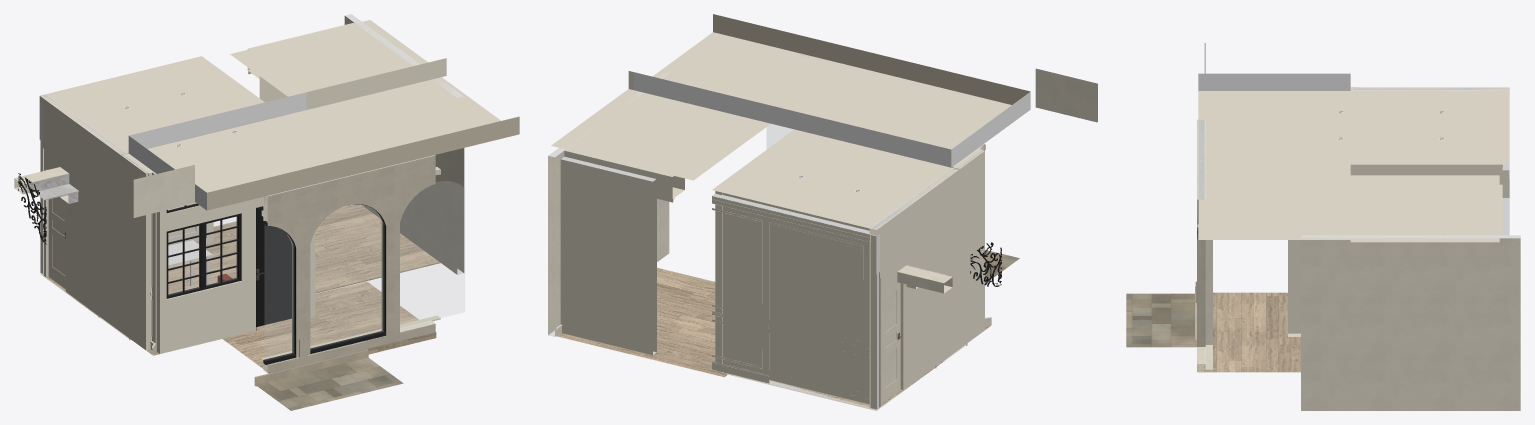
The model's file is office-west-12e27a438340.glb.
3 views of the same model, side by side, from view 1: azimuth 30°, elevation 25°; view 2: azimuth 150°, elevation 25°; view 3: azimuth 270°, elevation 25° (orthographic). The views are drawn at different scales.
Visible parts, largest first — view 1: office-west-look-dbd60ee5c3733ed6, office-west-6a051330000fbca1, office-west-look-c9e78b9ec1bb39cd, office-west-look-2575515a05775d9e, office-west-2575515a05775d9e, office-west-look-c02a36d0521470a9, office-west-a822d30aa9e2c55a, office-west-look-5cbcc744e6f960f3, office-west-look-3b0077416469e01b, office-west-look-6a1144f4e43410bb, office-west-look-c374268555806af8, office-west-dbd60ee5c3733ed6 (+17 smaller); view 2: office-west-look-dbd60ee5c3733ed6, office-west-fca9ba73dd7496f7, office-west-6a051330000fbca1, office-west-look-19647d6da46c2b80, office-west-2575515a05775d9e, office-west-look-2575515a05775d9e, office-west-look-3b0077416469e01b, office-west-19647d6da46c2b80, office-west-look-6a1144f4e43410bb, office-west-look-34525a54e63b733b, office-west-dbd60ee5c3733ed6, office-west-80d276f58a4dc5cb (+9 smaller); view 3: office-west-look-6a1144f4e43410bb, office-west-look-dbd60ee5c3733ed6, office-west-2575515a05775d9e, office-west-look-2575515a05775d9e, office-west-look-c374268555806af8, office-west-dbd60ee5c3733ed6, office-west-look-982408871810a50e, office-west-7b11e78295c2e11d, office-west-look-c9e78b9ec1bb39cd, office-west-look-e54cb06e326b7f4f, office-west-a822d30aa9e2c55a, office-west-9cfa99552c9f4048 (+1 smaller).
Boxes of the visible parts, bbox=[...] form: office-west-look-dbd60ee5c3733ed6: bbox=[128, 77, 519, 210]; office-west-6a051330000fbca1: bbox=[39, 94, 156, 351]; office-west-look-c9e78b9ec1bb39cd: bbox=[263, 155, 435, 372]; office-west-look-2575515a05775d9e: bbox=[230, 20, 446, 109]; office-west-2575515a05775d9e: bbox=[40, 56, 282, 155]; office-west-look-c02a36d0521470a9: bbox=[310, 204, 383, 348]; office-west-a822d30aa9e2c55a: bbox=[156, 139, 307, 353]; office-west-look-5cbcc744e6f960f3: bbox=[400, 181, 464, 327]; office-west-look-3b0077416469e01b: bbox=[213, 204, 440, 293]; office-west-look-6a1144f4e43410bb: bbox=[344, 14, 464, 274]; office-west-look-c374268555806af8: bbox=[223, 281, 436, 370]; office-west-dbd60ee5c3733ed6: bbox=[128, 116, 314, 173]; office-west-look-dbd60ee5c3733ed6: bbox=[633, 14, 1030, 166]; office-west-fca9ba73dd7496f7: bbox=[722, 193, 840, 396]; office-west-6a051330000fbca1: bbox=[869, 146, 984, 408]; office-west-look-19647d6da46c2b80: bbox=[560, 156, 656, 355]; office-west-2575515a05775d9e: bbox=[712, 129, 958, 228]; office-west-look-2575515a05775d9e: bbox=[551, 71, 770, 180]; office-west-look-3b0077416469e01b: bbox=[557, 267, 727, 377]; office-west-19647d6da46c2b80: bbox=[712, 193, 869, 407]; office-west-look-6a1144f4e43410bb: bbox=[548, 72, 669, 336]; office-west-look-34525a54e63b733b: bbox=[1035, 68, 1097, 122]; office-west-dbd60ee5c3733ed6: bbox=[794, 105, 983, 167]; office-west-80d276f58a4dc5cb: bbox=[883, 283, 900, 402]; office-west-look-6a1144f4e43410bb: bbox=[1301, 235, 1520, 410]; office-west-look-dbd60ee5c3733ed6: bbox=[1198, 73, 1350, 239]; office-west-2575515a05775d9e: bbox=[1350, 87, 1509, 164]; office-west-look-2575515a05775d9e: bbox=[1350, 175, 1499, 242]; office-west-look-c374268555806af8: bbox=[1197, 292, 1300, 372]; office-west-dbd60ee5c3733ed6: bbox=[1288, 90, 1350, 164]; office-west-look-982408871810a50e: bbox=[1126, 293, 1196, 347]; office-west-7b11e78295c2e11d: bbox=[1288, 161, 1502, 336]; office-west-look-c9e78b9ec1bb39cd: bbox=[1197, 119, 1205, 371]; office-west-look-e54cb06e326b7f4f: bbox=[1205, 240, 1212, 369]; office-west-a822d30aa9e2c55a: bbox=[1288, 91, 1295, 333]; office-west-9cfa99552c9f4048: bbox=[1350, 164, 1478, 169].
Size of the model in its own units: 6.87 by 3.92 by 6.21.
29 materials, 8 textured.
